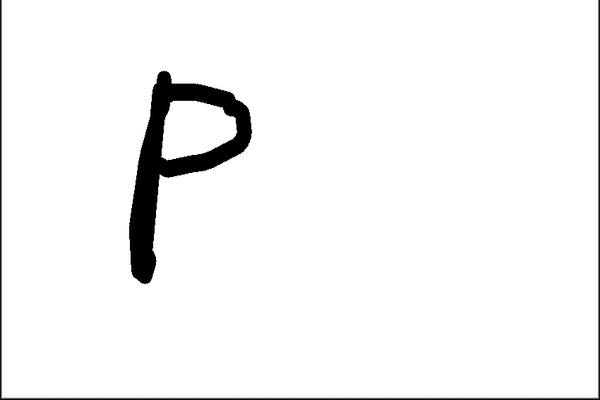P: (114, 63, 263, 287)
